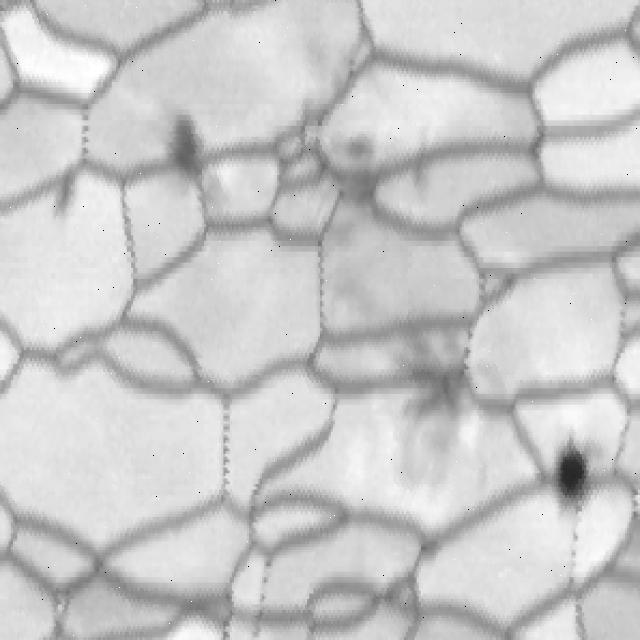good_void: (384, 329, 492, 501), (307, 118, 392, 225), (540, 427, 603, 532), (151, 100, 213, 205), (37, 158, 90, 232), (550, 432, 592, 510)
